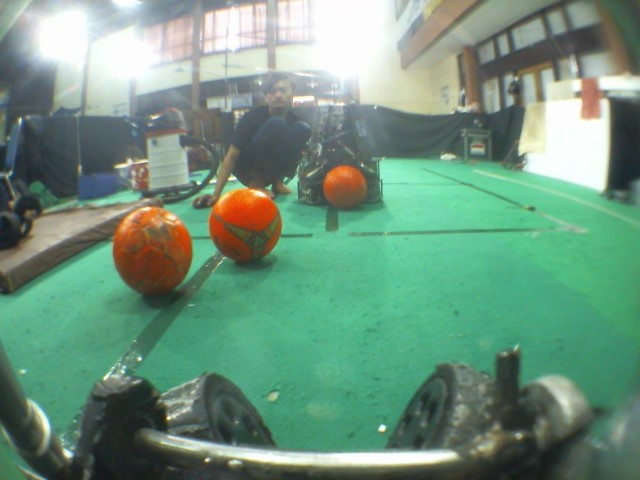ball: (110, 205, 194, 303), (205, 187, 289, 269), (321, 163, 371, 216)
